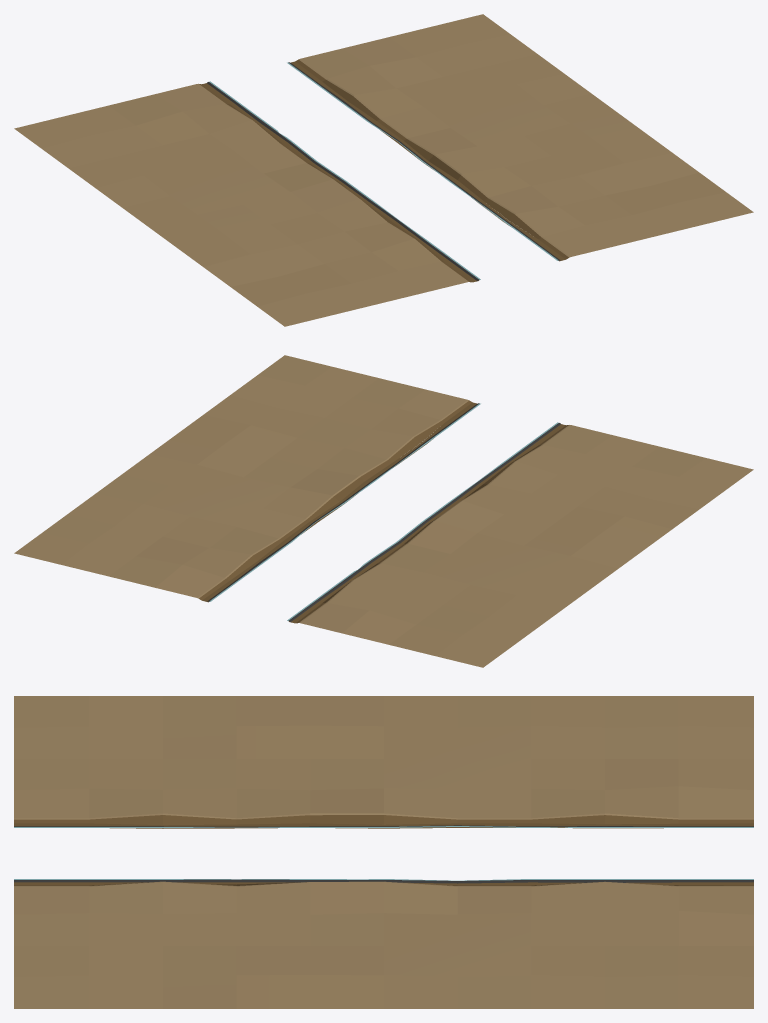
File: model_road_dirtstraight_1_.fbx
The picture shows the model from 3 angles, top to bottom: view 1: azimuth 30°, elevation 25°; view 2: azimuth 150°, elevation 25°; view 3: azimuth 270°, elevation 25°; orthographic projection. The views are drawn at different scales.
Parts seen in each view (by area): view 1: model_road_dirt_straight_01; view 2: model_road_dirt_straight_01; view 3: model_road_dirt_straight_01.
Part boxes in pixels (<box>): model_road_dirt_straight_01: <box>14,14,753,326</box>; model_road_dirt_straight_01: <box>14,355,753,667</box>; model_road_dirt_straight_01: <box>14,696,753,1008</box>.
Size of the model in its own units: 0.6161 by 0.6161 by 0.00628.
